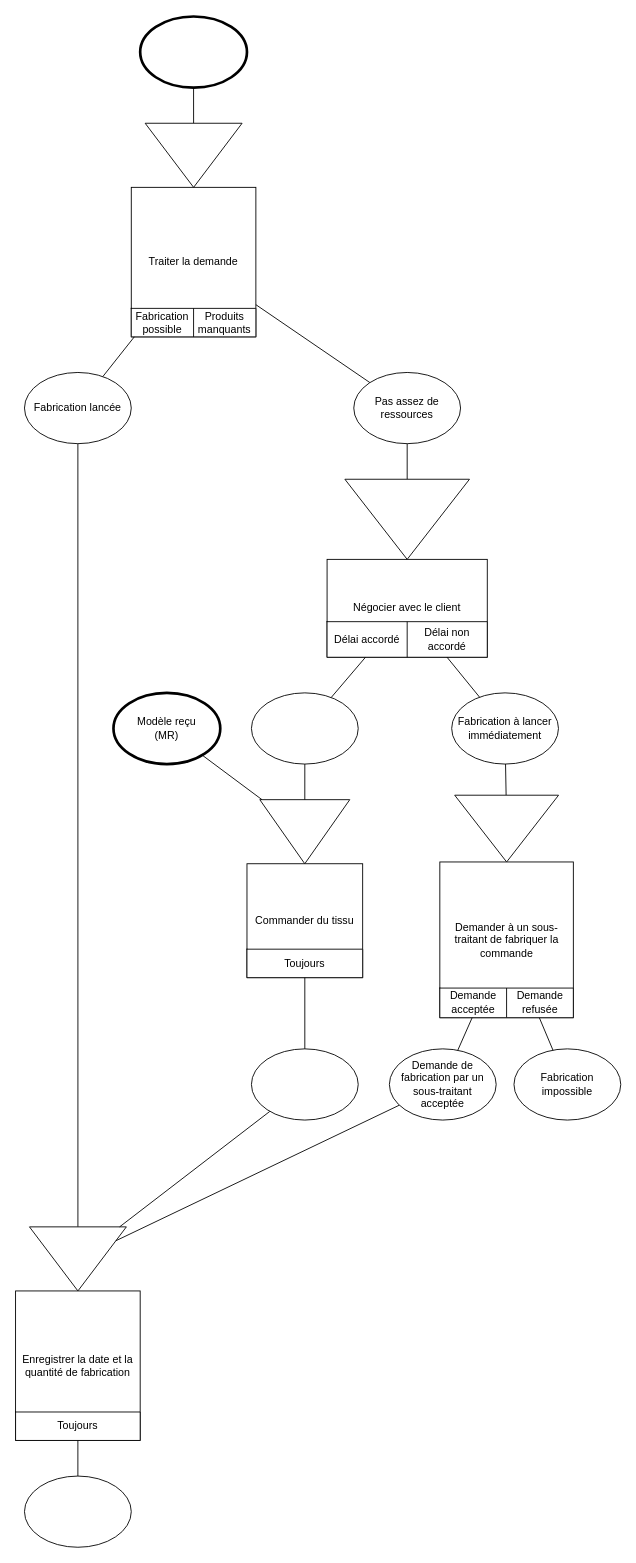
This 636x1563 diagram has some shape labels left out. Each missing label, with the centre of its shape:
Besoin de tissu (BT): [304,728]
Commande reçue: [193,52]
Données de fabrication enregistrées: [77,1511]
MR OU BT: [304,831]
Tissu commandé: [304,1084]
